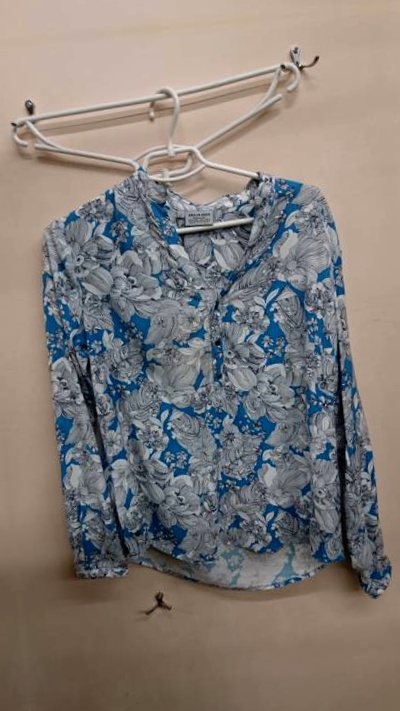Blouse: (5, 110, 400, 655)
